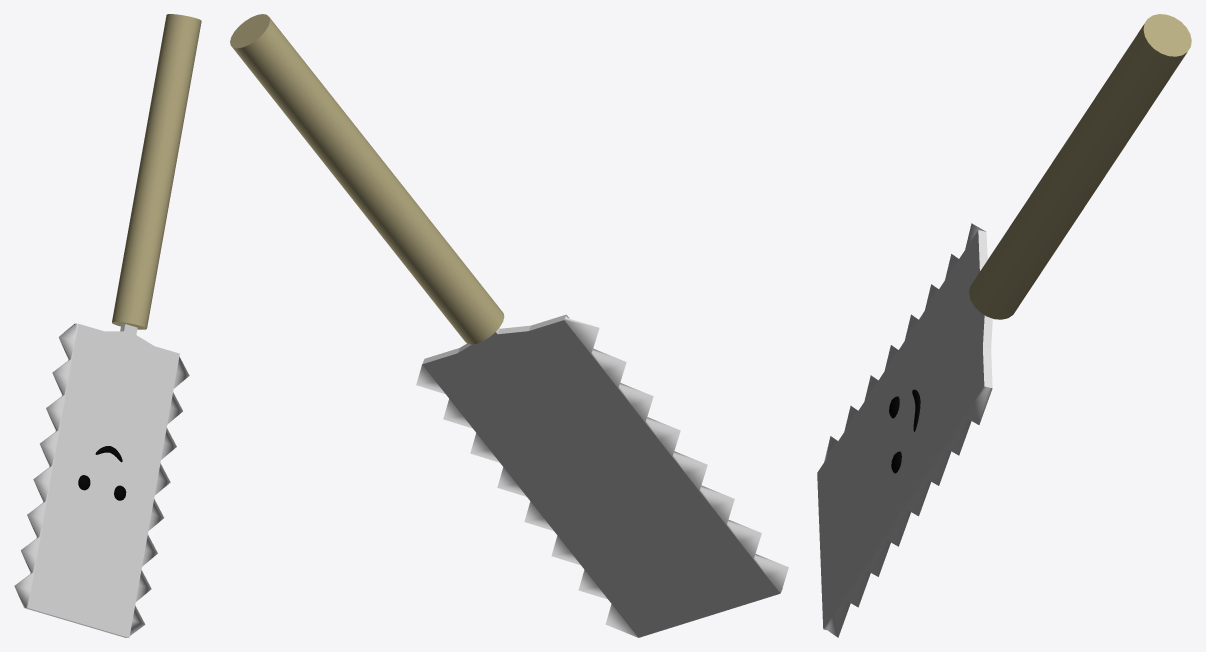
Rendered from nokogiri.fbx.
3 renders of one model, left to right at view 1: azimuth 30°, elevation 25°; view 2: azimuth 150°, elevation 25°; view 3: azimuth 270°, elevation 25°, orthographic. The views are drawn at different scales.
Visible parts, largest first — view 1: pasted__pCubeShape7, pasted__pCylinder6; view 2: pasted__pCubeShape7, pasted__pCylinder6; view 3: pasted__pCubeShape7, pasted__pCylinder6.
Boxes of the visible parts, x1,y1,x2,y2 form: pasted__pCubeShape7: [14, 323, 189, 637]; pasted__pCylinder6: [112, 14, 201, 329]; pasted__pCubeShape7: [416, 314, 788, 637]; pasted__pCylinder6: [230, 14, 504, 344]; pasted__pCubeShape7: [817, 223, 992, 637]; pasted__pCylinder6: [969, 14, 1191, 319].
Size of the model in its own units: 8.59 by 13.77 by 6.38.
